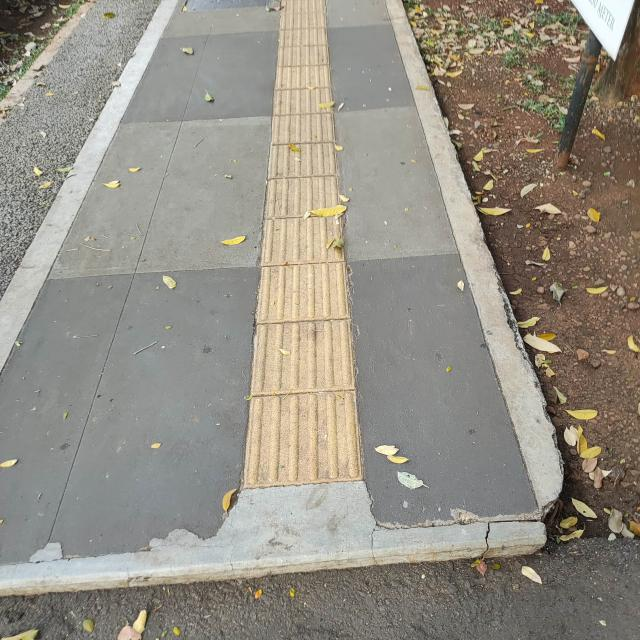lurus: (238, 15, 363, 493)
